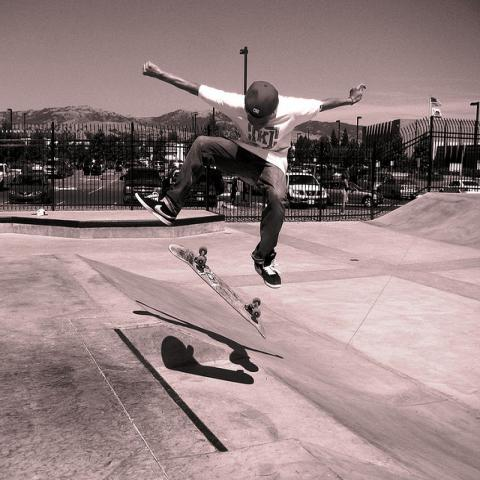car: (119, 167, 167, 208), (322, 180, 383, 206), (286, 172, 328, 209), (9, 173, 52, 205), (184, 170, 218, 206), (376, 179, 420, 200), (0, 163, 22, 191), (442, 179, 480, 193), (83, 156, 107, 175), (150, 160, 166, 171), (138, 156, 150, 168), (174, 170, 180, 173)
